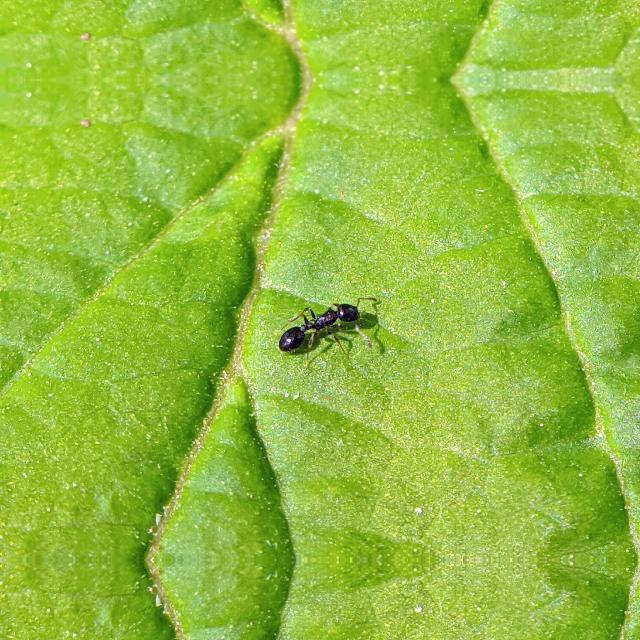Temnothorax: (267, 287, 381, 361)
